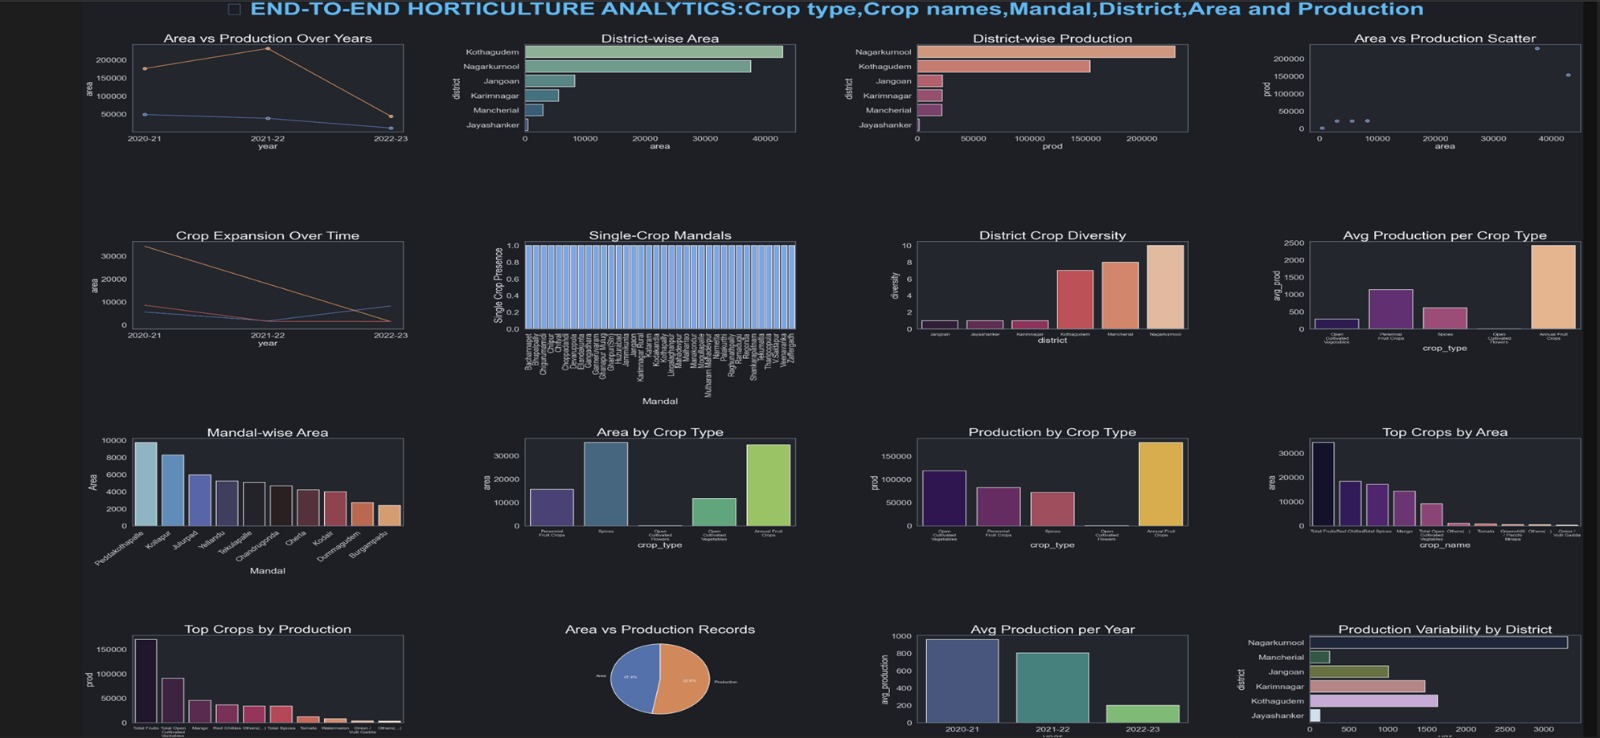

Layout of this report page (visuals, bound fields, positions):
{"tool":"powerbi","page":{"name":"Page 1","canvas":[1280,720],"ordinal":0},"visuals":[{"type":"card","fields":{"Values":["agriculture area_production.total cultivated area"]},"box":[281.8,82.9,285.6,135.1],"z":0},{"type":"areaChart","fields":{"Category":["agriculture year.year"],"Y":["agriculture area_production.total cultivated area"],"Y2":["agriculture area_production.total horticulture production"]},"box":[222.1,217.8,213.5,257.5],"z":1000},{"type":"cardVisual","fields":{"Data":["agriculture area_production.total horticulture production"]},"box":[0,82.6,282.2,135.2],"z":2000},{"type":"lineChart","fields":{"Category":["agriculture district.district"],"Y":["agriculture area_production.total cultivated area","agriculture area_production.total horticulture production"]},"box":[221.8,474.3,212.9,246.1],"z":3000},{"type":"lineClusteredColumnComboChart","fields":{"Category":["agriculture mandal.mandal"],"Y":["agriculture area_production.total cultivated area"],"Y2":["agriculture area_production.total horticulture production"]},"box":[434.7,219.3,229.5,256.3],"z":4000},{"type":"donutChart","fields":{"Category":["agriculture crop.crop_type"],"Y":["agriculture area_production.total cultivated area"]},"box":[434.7,474.3,229.5,241],"z":5000},{"type":"funnel","fields":{"Category":["agriculture crop.crop_type"],"Y":["agriculture area_production.total horticulture production"]},"box":[664.2,218,205.3,256.3],"z":6000},{"type":"lineChart","fields":{"Category":["agriculture crop.crop_name"],"Y":["agriculture area_production.total cultivated area"],"Y2":["agriculture area_production.total horticulture production"]},"box":[664.2,474.3,205.3,246.1],"z":7000},{"type":"textbox","box":[0,0,1280,82.9],"z":8000},{"type":"donutChart","fields":{"Category":["agriculture area_production.area_production"],"Y":["CountNonNull(agriculture area_production.value)"]},"box":[869.5,218,190,256.3],"z":9000},{"type":"columnChart","fields":{"Y":["agriculture area_production.average production per record"],"Category":["agriculture year.year"]},"box":[869.5,474.3,188.7,246.1],"z":10000},{"type":"pieChart","fields":{"Category":["agriculture crop.crop_type"],"Y":["agriculture area_production.average production per record"]},"box":[1058.2,219.3,221.8,256.3],"z":11000},{"type":"columnChart","fields":{"Y":["agriculture area_production.crop diversity"],"Category":["agriculture district.district"]},"box":[1058.2,473,221.8,247.3],"z":12000},{"type":"barChart","fields":{"Y":["agriculture area_production.Production Variability"],"Category":["agriculture district.district"]},"box":[567.3,82.9,290.7,135.1],"z":13000},{"type":"columnChart","fields":{"Category":["agriculture crop.crop_name"],"Y":["agriculture area_production.district count per crop"],"Series":["agriculture district.district"]},"box":[858,82.9,422,135.1],"z":14001},{"type":"slicer","fields":{"Values":["agriculture crop.crop_type"]},"box":[0,218,221.8,168.3],"z":14002},{"type":"slicer","fields":{"Values":["agriculture district.district"]},"box":[0,386.3,221.8,153],"z":14003},{"type":"slicer","fields":{"Values":["agriculture year.year"]},"box":[0,539.3,221.8,181],"z":14004}]}

Visuals, with their boxes on the page's 1280x720 design canvas (x1, y1, x2, y2). These are canvas units, not pixel positions in the 1600x738 screenshot, which may show the page scaled, cropped or inside an application window:
card - agriculture area_production.total cultivated area: [left=282, top=83, right=567, bottom=218]
areaChart - agriculture year.year x agriculture area_production.total cultivated area: [left=222, top=218, right=436, bottom=475]
cardVisual - agriculture area_production.total horticulture production: [left=0, top=83, right=282, bottom=218]
lineChart - agriculture district.district x agriculture area_production.total cultivated area: [left=222, top=474, right=435, bottom=720]
lineClusteredColumnComboChart - agriculture mandal.mandal x agriculture area_production.total cultivated area: [left=435, top=219, right=664, bottom=476]
donutChart - agriculture crop.crop_type x agriculture area_production.total cultivated area: [left=435, top=474, right=664, bottom=715]
funnel - agriculture crop.crop_type x agriculture area_production.total horticulture production: [left=664, top=218, right=870, bottom=474]
lineChart - agriculture crop.crop_name x agriculture area_production.total cultivated area: [left=664, top=474, right=870, bottom=720]
textbox: [left=0, top=0, right=1280, bottom=83]
donutChart - agriculture area_production.area_production x CountNonNull(agriculture area_production.value): [left=870, top=218, right=1060, bottom=474]
columnChart - agriculture area_production.average production per record x agriculture year.year: [left=870, top=474, right=1058, bottom=720]
pieChart - agriculture crop.crop_type x agriculture area_production.average production per record: [left=1058, top=219, right=1280, bottom=476]
columnChart - agriculture area_production.crop diversity x agriculture district.district: [left=1058, top=473, right=1280, bottom=720]
barChart - agriculture area_production.Production Variability x agriculture district.district: [left=567, top=83, right=858, bottom=218]
columnChart - agriculture crop.crop_name x agriculture area_production.district count per crop: [left=858, top=83, right=1280, bottom=218]
slicer - agriculture crop.crop_type: [left=0, top=218, right=222, bottom=386]
slicer - agriculture district.district: [left=0, top=386, right=222, bottom=539]
slicer - agriculture year.year: [left=0, top=539, right=222, bottom=720]
